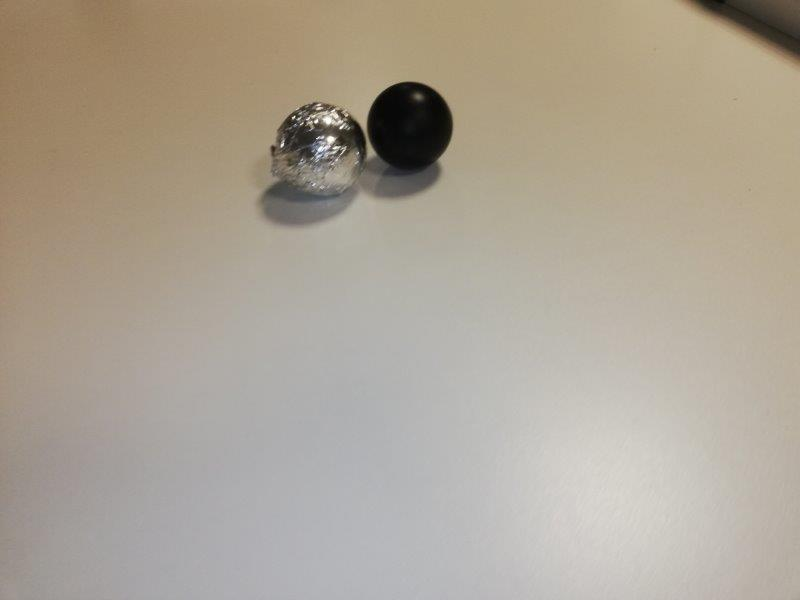bianca: (269, 98, 365, 200)
nera: (369, 80, 454, 171)
